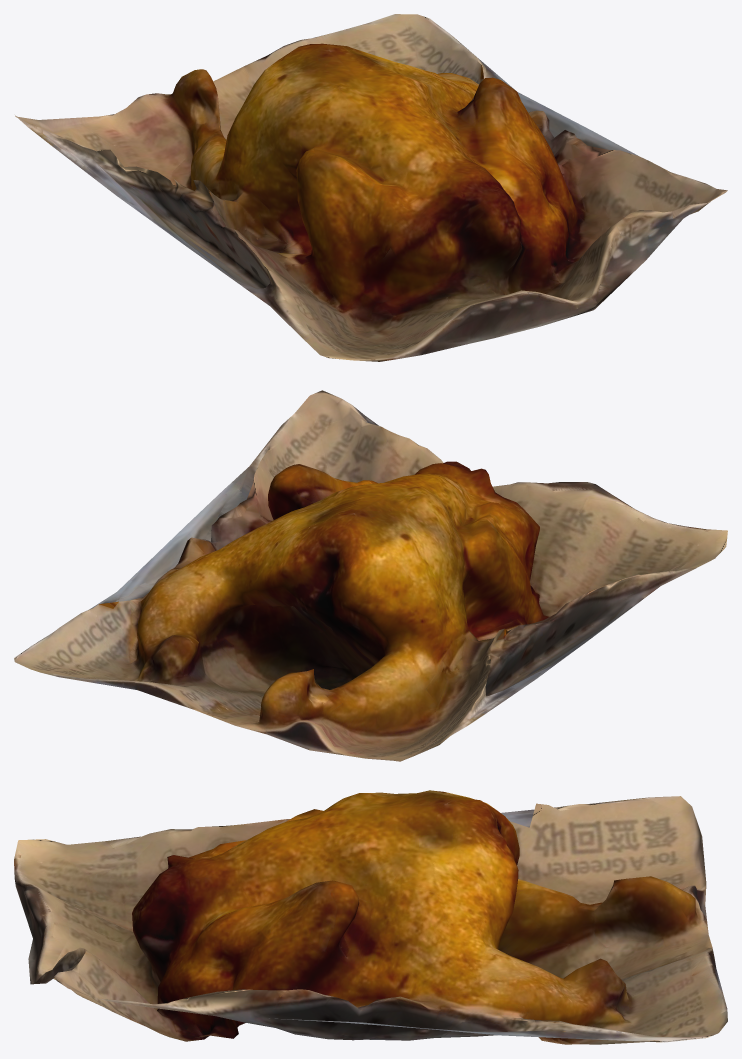
File: chickens.glb
The picture shows the model from 3 angles, top to bottom: view 1: azimuth 30°, elevation 25°; view 2: azimuth 150°, elevation 25°; view 3: azimuth 270°, elevation 25°; orthographic projection. The views are drawn at different scales.
Visible parts, largest first — view 1: baked_mesh; view 2: baked_mesh; view 3: baked_mesh.
Boxes of the visible parts, x1,y1,x2,y2 form: baked_mesh: (15, 14, 727, 361); baked_mesh: (14, 390, 727, 761); baked_mesh: (14, 790, 727, 1044).
Size of the model in its own units: 0.3917 by 0.1606 by 0.523.
1 material, 1 textured.
